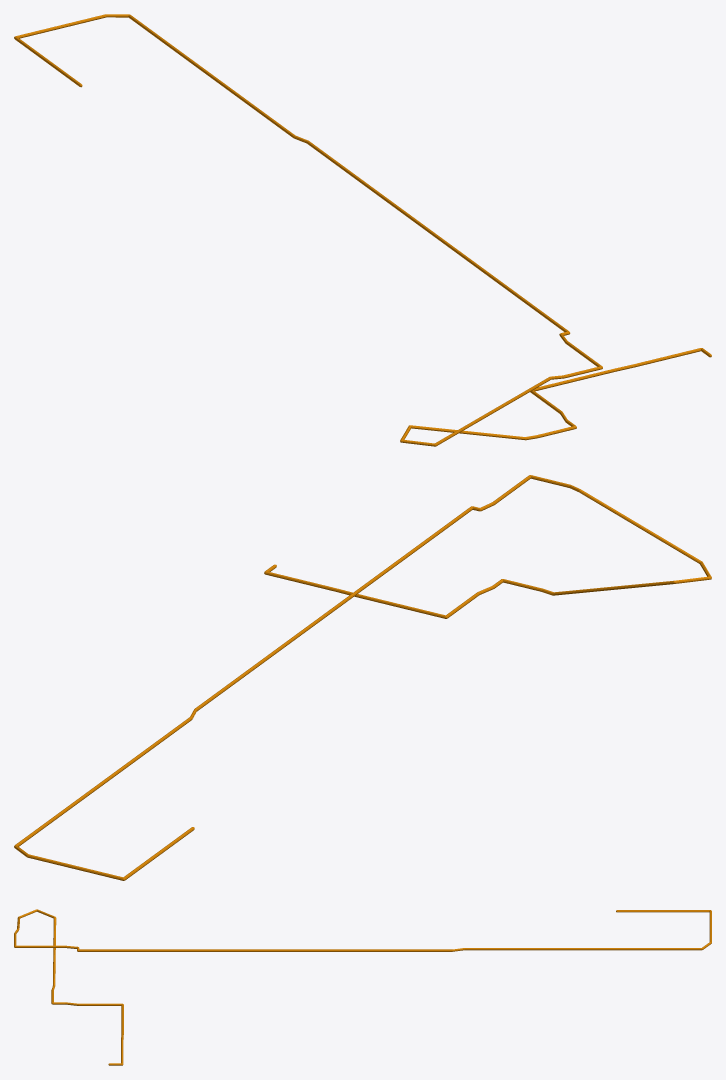
3 renders of one model, top to bottom at view 1: azimuth 30°, elevation 25°; view 2: azimuth 150°, elevation 25°; view 3: azimuth 270°, elevation 25°, orthographic. The views are drawn at different scales.
Bounding box in the file's own units: 2406 × 520 × 5592.
